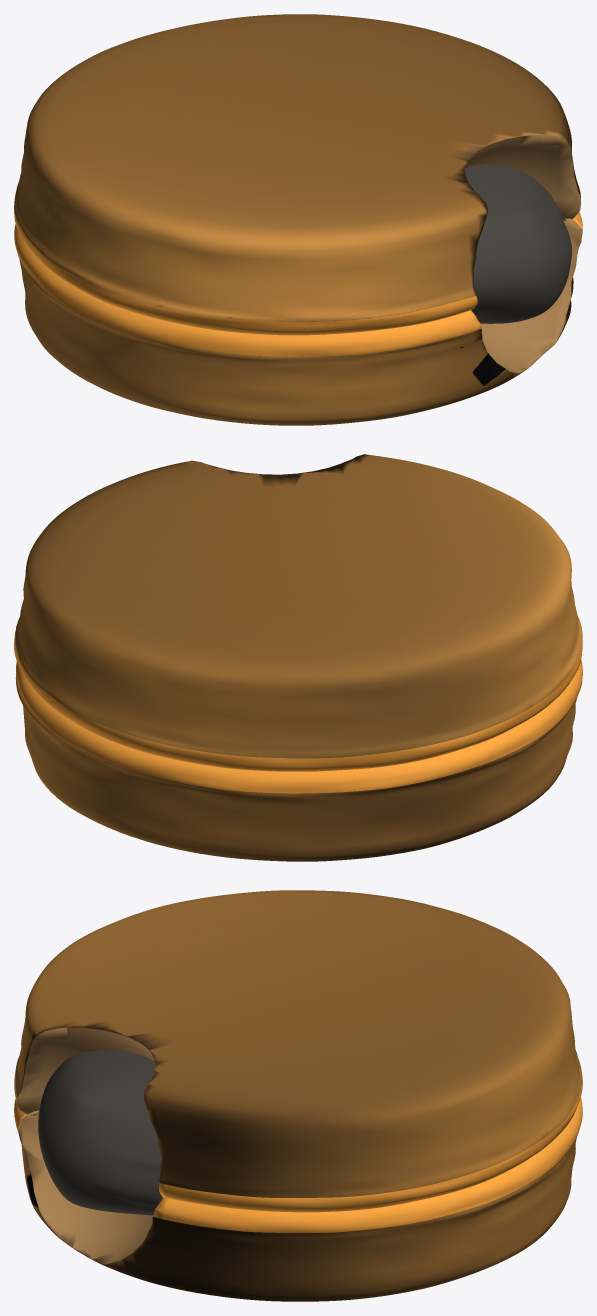
The model's file is big1.glb.
3 renders of one model, top to bottom at view 1: azimuth 30°, elevation 25°; view 2: azimuth 150°, elevation 25°; view 3: azimuth 270°, elevation 25°, orthographic.
Visible parts, largest first — view 1: Cylinder, Mball.002; view 2: Cylinder; view 3: Cylinder, Mball.002.
Part boxes in pixels (<box>): Cylinder: <box>14,14,582,425</box>; Mball.002: <box>465,164,571,323</box>; Cylinder: <box>14,454,582,861</box>; Cylinder: <box>14,890,582,1301</box>; Mball.002: <box>38,1050,162,1215</box>.
Size of the model in its own units: 2.07 by 0.8121 by 2.08.
4 materials, 1 textured.
